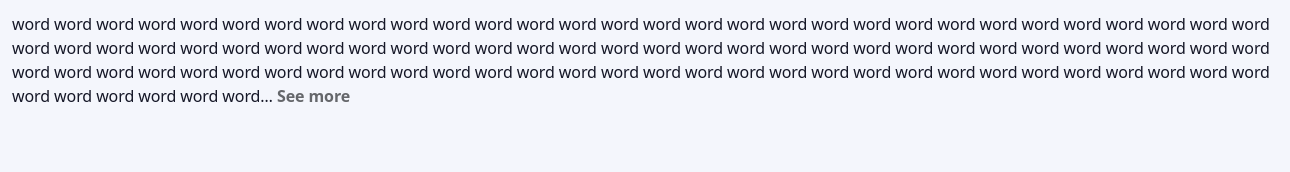
Scenario: PreviewText › collapses long Facebook text behind "See more" and expands it
Click the button with aria-label "See more of the caption" at [314, 96], box [277, 84, 350, 108]
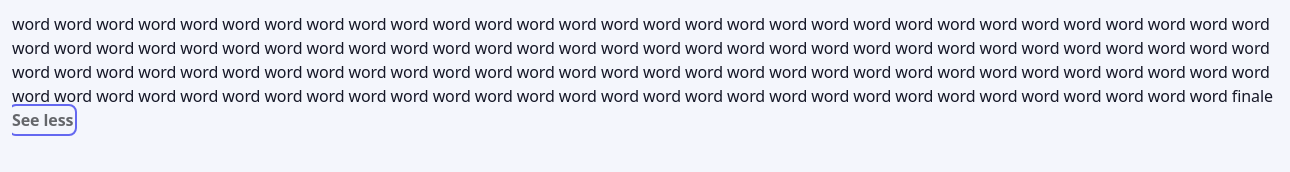
Check: the button with aria-label "See less of the caption" is expanded, box [12, 108, 73, 132]
